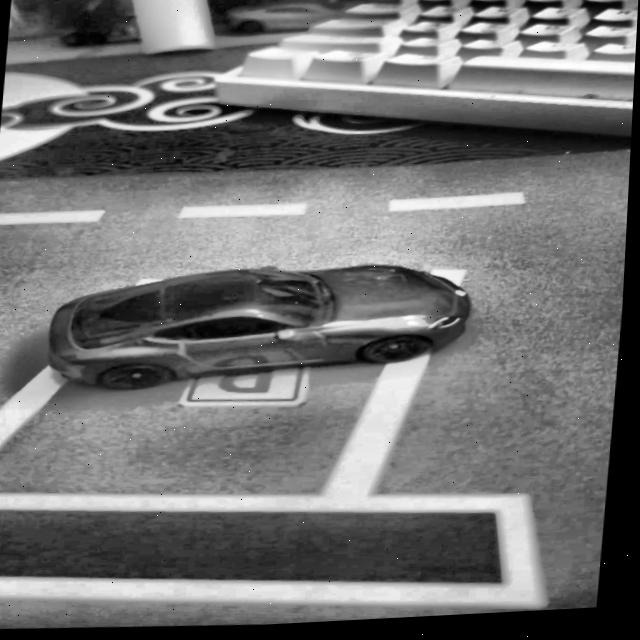car: (46, 251, 477, 407)
